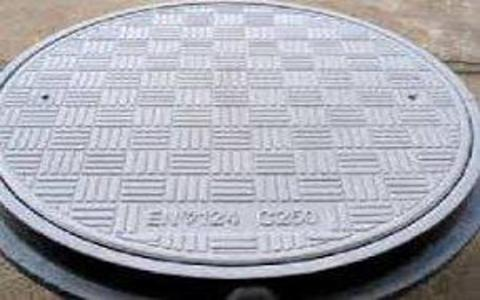proper manhole: (1, 1, 473, 278)
